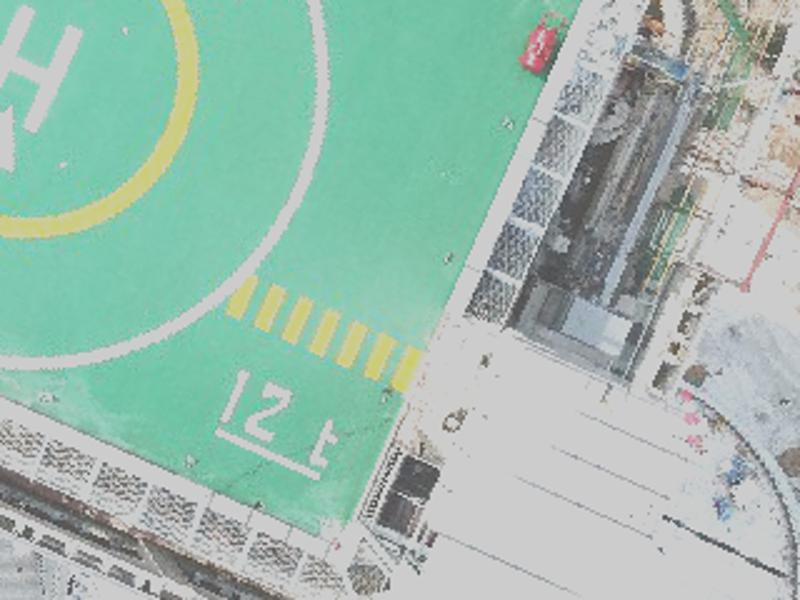Apron: (1, 1, 203, 242)
